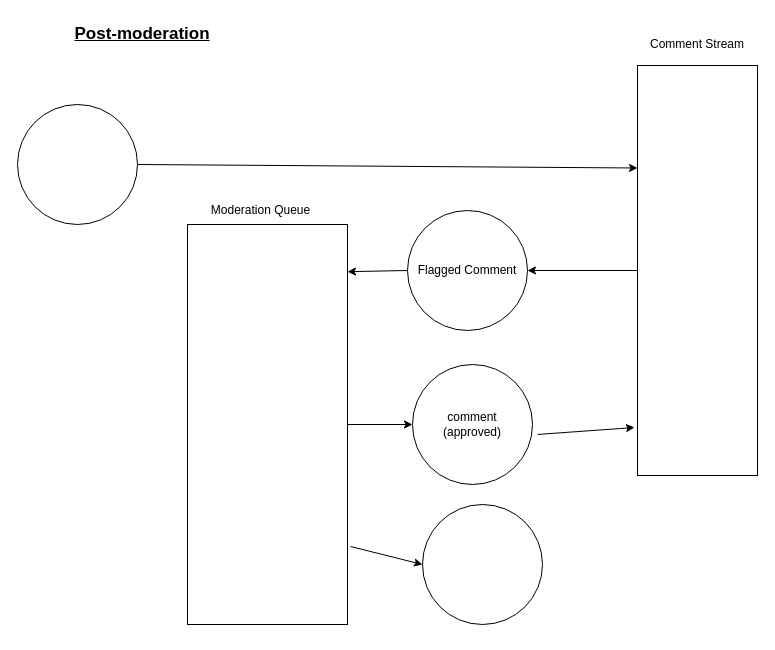
Some shapes in this 775 by 650 pixel diagram are drawn without their labels. The centre of each missing label's shape, as x and y in pixels:
comment (new): point 77,164
comment (rejected): point 482,564
